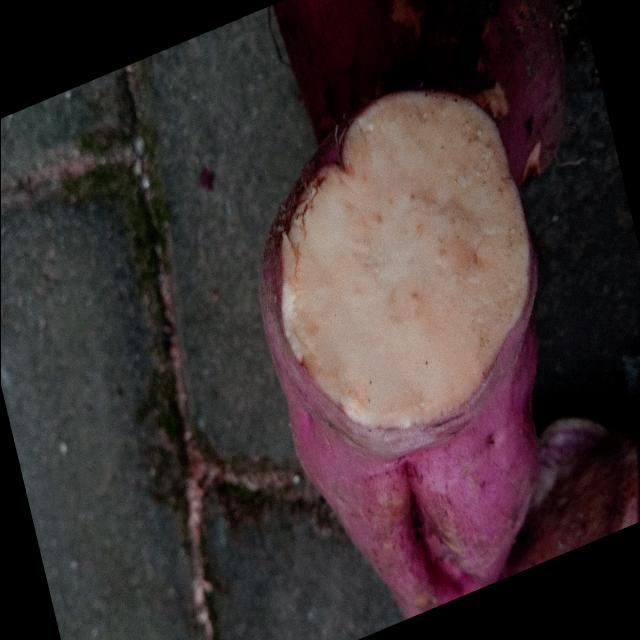Healthy Sweet Potato: (280, 92, 529, 428)
